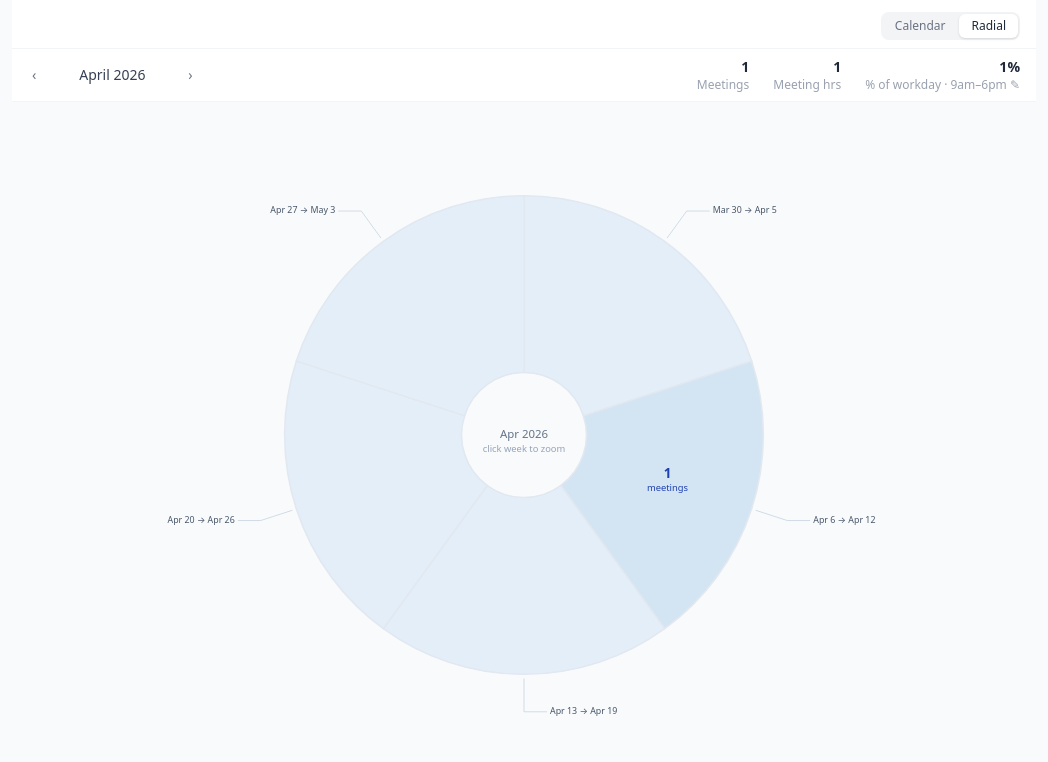
Scenario: CalendarView › ghost event from pending store appears in calendar view
The width and height of the screenshot is (1048, 762).
Note: Switch to calendar grid to see ghost block
Click the button with test id "display-toggle-calendar": (920, 26) [883,14,958,38]
(page scrolled)
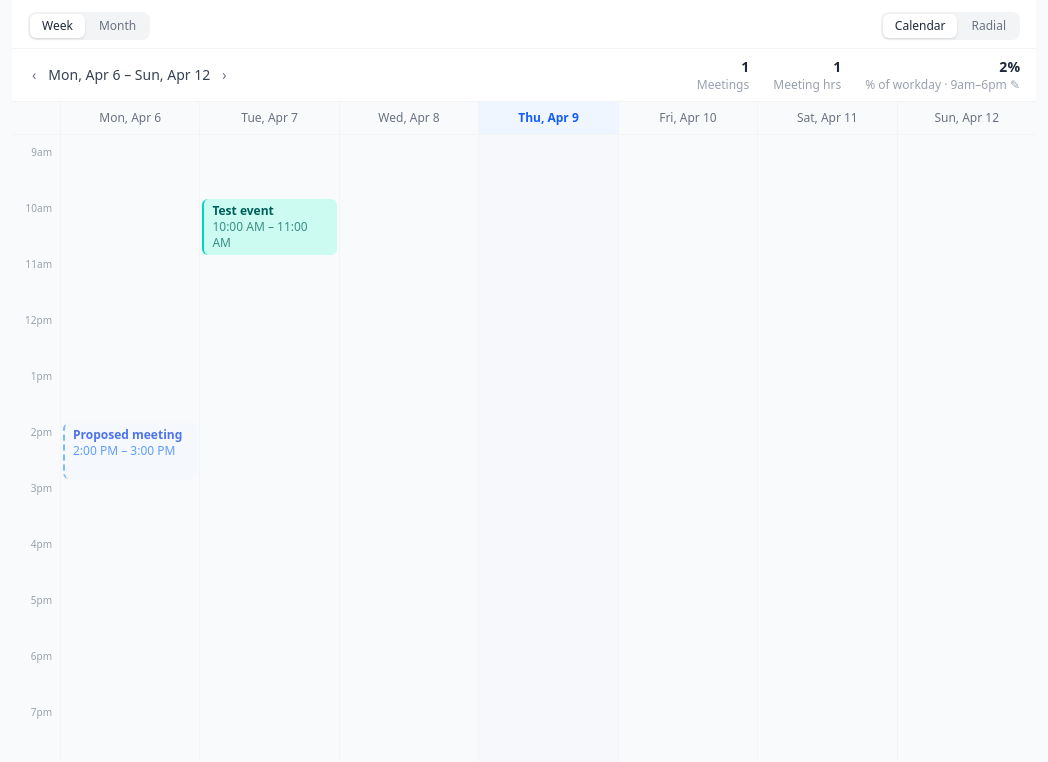
Expected: the element with test id "ghost-block-p1" is shown, [63,423,197,479]
